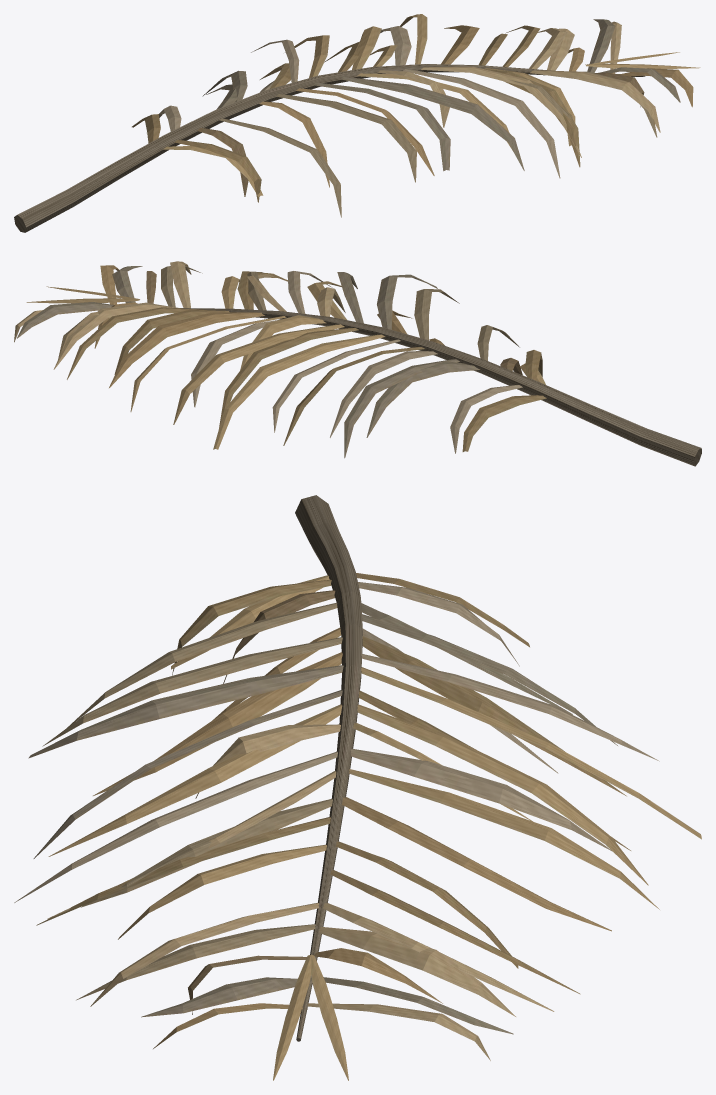
Rendered from nb_frond_long.glb.
3 views of the same model, one above another, from view 1: azimuth 30°, elevation 25°; view 2: azimuth 150°, elevation 25°; view 3: azimuth 270°, elevation 25° (orthographic). The views are drawn at different scales.
Visible parts, largest first — view 1: Dry_Palm_Frond_Long; view 2: Dry_Palm_Frond_Long; view 3: Dry_Palm_Frond_Long.
Boxes of the visible parts, x1,y1,x2,y2 form: Dry_Palm_Frond_Long: (14, 14, 700, 232); Dry_Palm_Frond_Long: (14, 261, 701, 466); Dry_Palm_Frond_Long: (14, 495, 701, 1080).
Bounding box in the file's own units: 2.87 × 0.3044 × 1.46.
1 material, 1 textured.
